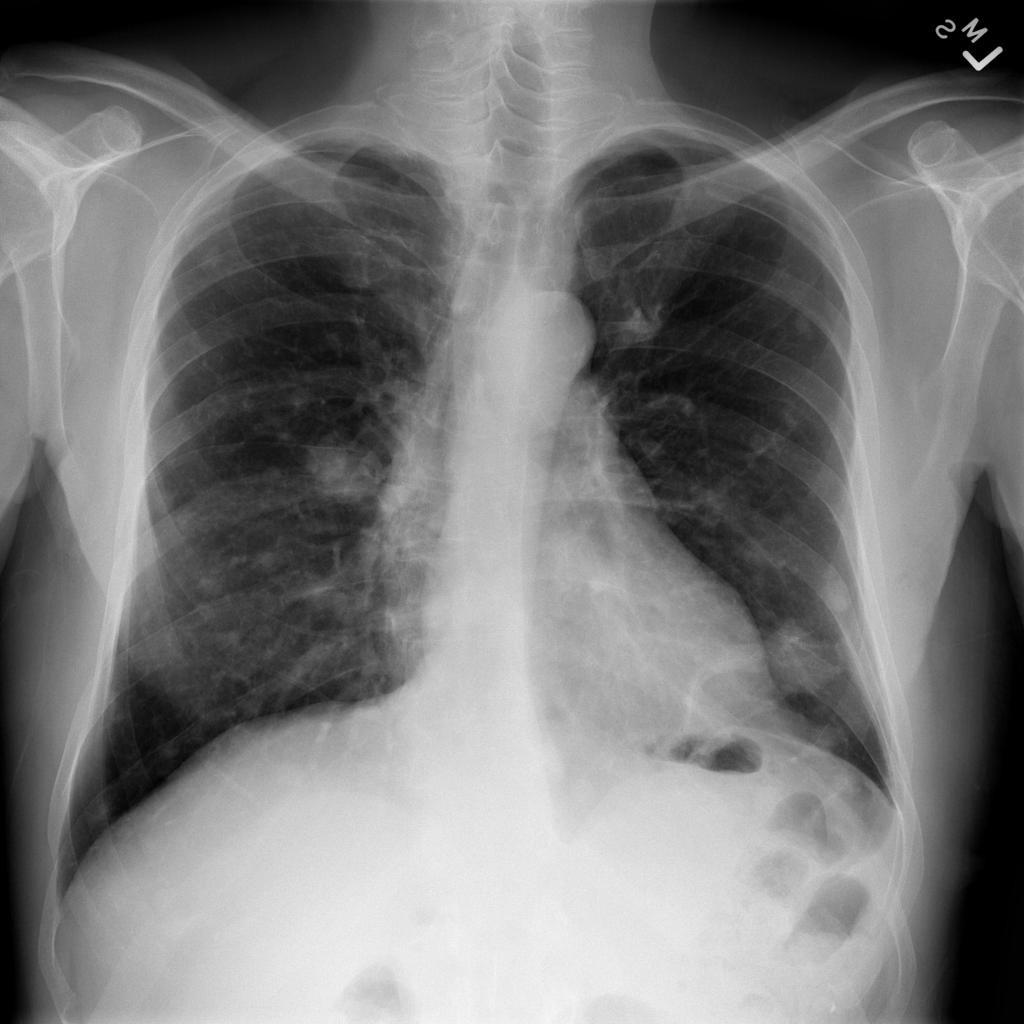nodule: (744, 591, 857, 708), (291, 407, 398, 523), (800, 556, 869, 629), (184, 558, 234, 612), (779, 295, 827, 347), (243, 537, 291, 587), (186, 231, 238, 277)
